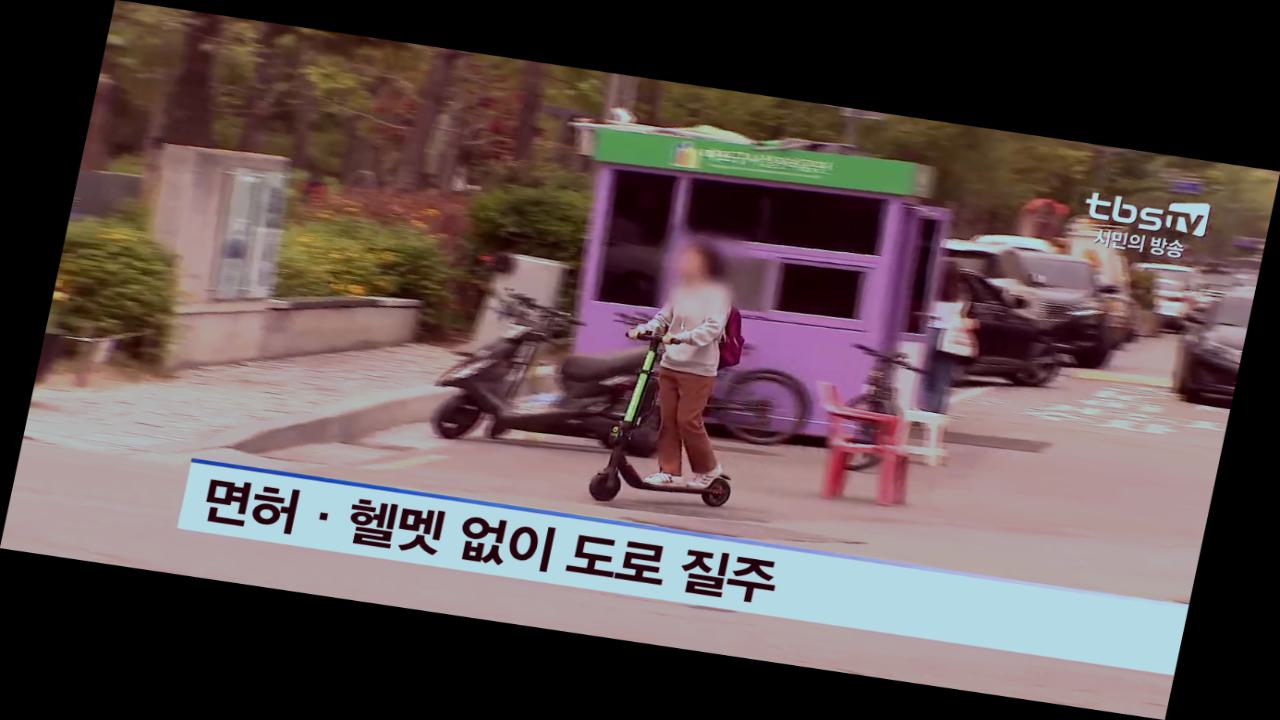nonhelmet: (577, 231, 797, 522)
